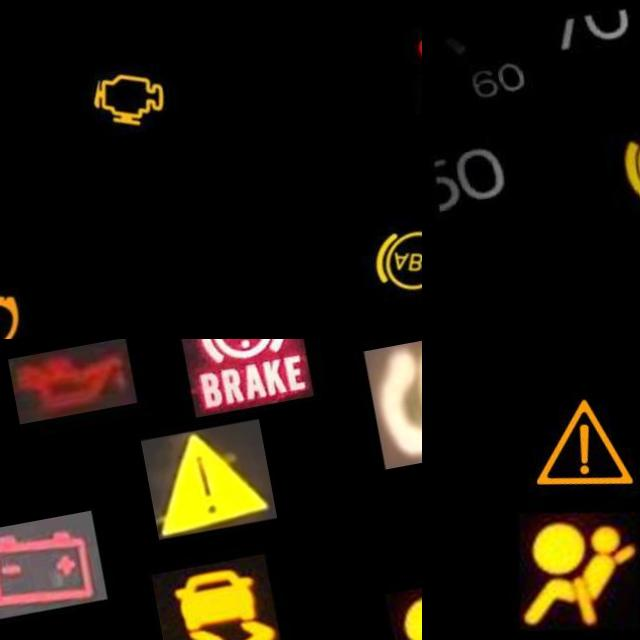Central Warning lamp: (493, 367, 640, 524), (134, 435, 266, 551)
